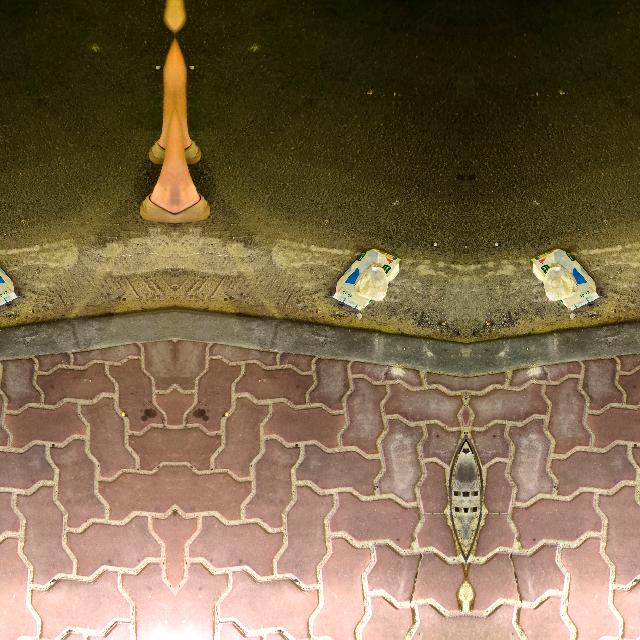Paper: (328, 246, 402, 316), (530, 246, 602, 316), (0, 245, 19, 316)
